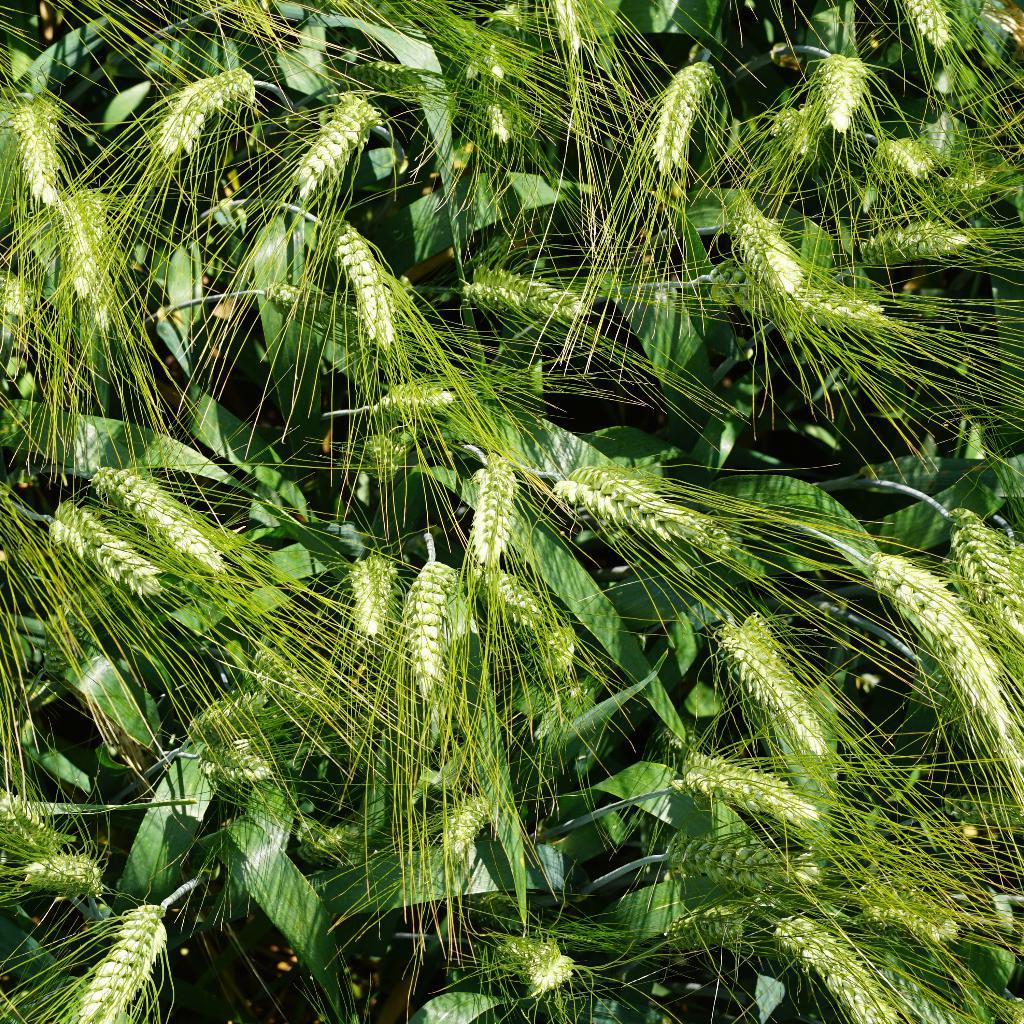0-0: (863, 535, 1019, 769), (698, 601, 843, 773), (548, 453, 736, 559), (772, 904, 931, 1024), (83, 452, 230, 575), (671, 740, 830, 837), (60, 899, 175, 1024), (47, 494, 165, 606), (931, 494, 1024, 628), (135, 62, 258, 161), (280, 90, 389, 201), (313, 216, 407, 344), (403, 550, 478, 709), (716, 175, 804, 294), (673, 826, 828, 893), (462, 254, 591, 326), (653, 52, 720, 187), (2, 77, 71, 204), (852, 873, 968, 945), (561, 624, 658, 707), (419, 768, 512, 854), (869, 206, 987, 272), (248, 644, 343, 720), (60, 181, 120, 300), (458, 0, 538, 84), (500, 925, 590, 998), (459, 565, 548, 638), (505, 0, 608, 63), (468, 451, 522, 570), (449, 874, 543, 941), (19, 840, 114, 904), (653, 897, 754, 956), (193, 733, 284, 798), (944, 781, 1024, 849), (171, 687, 272, 739), (0, 781, 73, 852), (346, 537, 393, 646), (815, 45, 870, 137), (802, 281, 903, 331), (882, 0, 968, 55), (654, 700, 710, 782), (881, 126, 946, 194), (261, 279, 351, 328), (336, 60, 436, 102), (287, 814, 366, 865), (371, 381, 459, 418), (529, 618, 580, 680), (353, 433, 412, 486), (759, 106, 823, 153), (0, 267, 41, 329), (481, 97, 533, 143)
